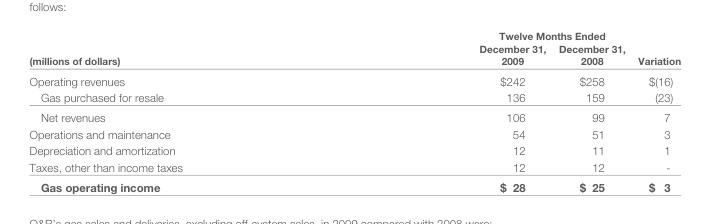table: (28, 29, 680, 193)
table column: (28, 29, 330, 193), (330, 29, 551, 193), (551, 29, 631, 193), (631, 29, 680, 193)
table column header: (28, 29, 680, 70)
table row: (28, 41, 680, 70), (28, 106, 680, 125), (28, 70, 680, 88), (28, 88, 680, 106), (28, 158, 680, 176), (28, 141, 680, 158), (28, 176, 680, 193), (28, 125, 680, 141), (28, 29, 680, 41)
table spanning cell: (28, 29, 330, 70), (330, 29, 631, 41), (631, 29, 680, 70)
